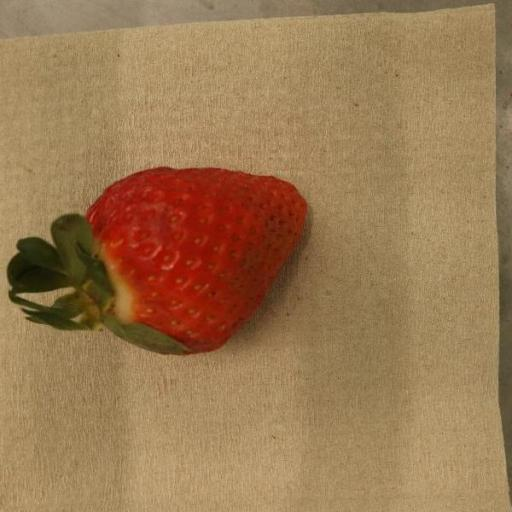Strawberry: (6, 167, 307, 356)
